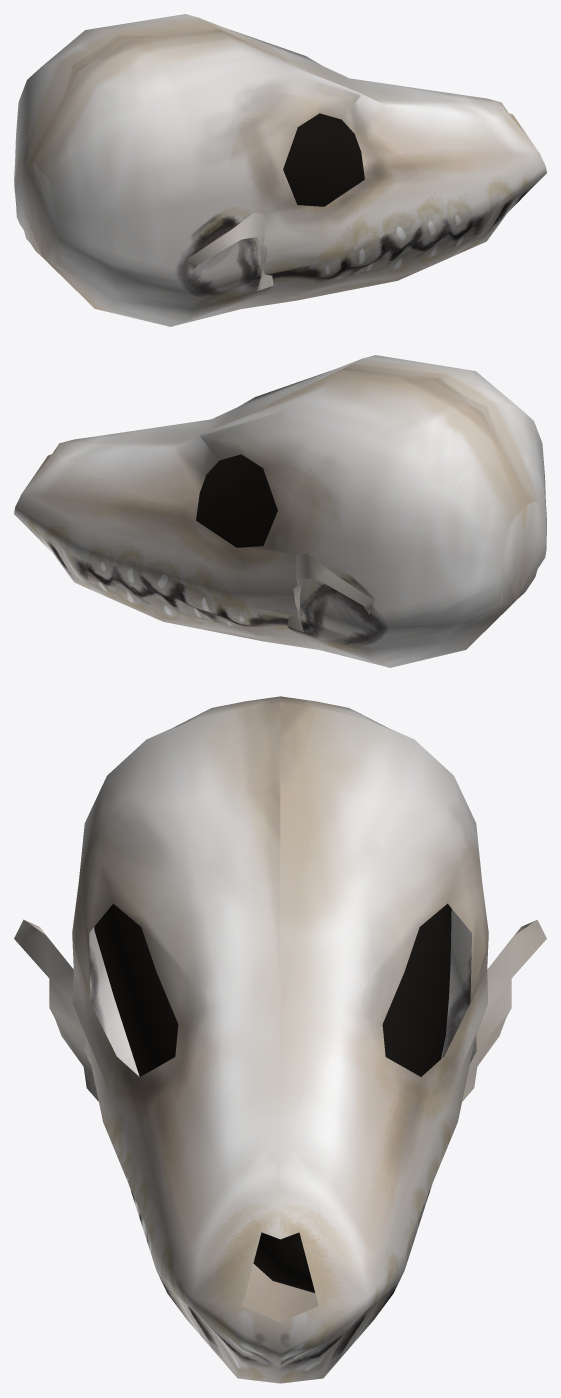
Rendered from KitFoxSkull.fbx.
3 renders of one model, top to bottom at view 1: azimuth 30°, elevation 25°; view 2: azimuth 150°, elevation 25°; view 3: azimuth 270°, elevation 25°, orthographic. The views are drawn at different scales.
Parts seen in each view (by area): view 1: Plane, Sphere; view 2: Plane, Sphere; view 3: Plane, Sphere.
Part boxes in pixels (x1,y1,x2,y2): Plane: (14, 14, 546, 326); Sphere: (283, 113, 364, 206); Plane: (14, 355, 546, 667); Sphere: (196, 454, 277, 547); Plane: (14, 696, 546, 1383); Sphere: (94, 903, 451, 1292).
Size of the model in its own units: 179 by 101 by 110.
